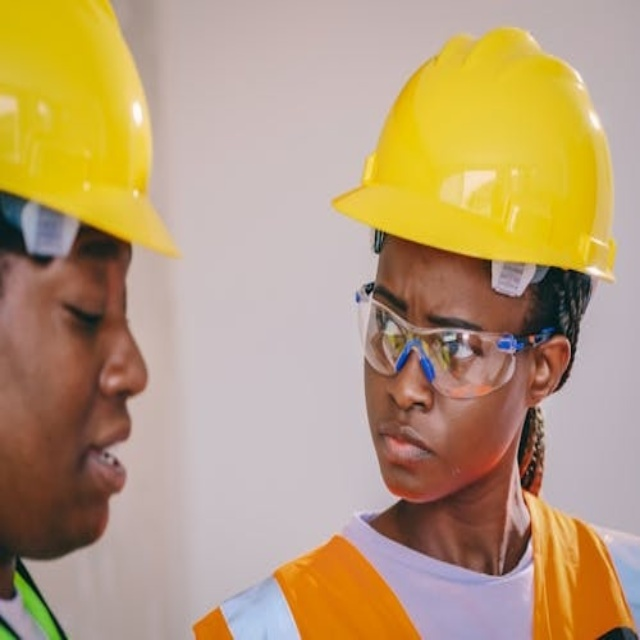Gafas: (346, 266, 563, 396)
Sin_gafas: (19, 266, 136, 343)
Sin_mascara: (29, 411, 146, 500), (370, 413, 444, 486)
